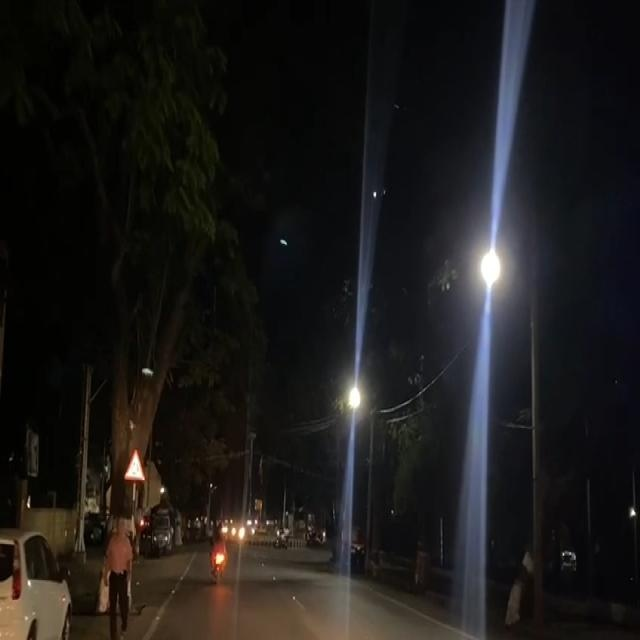bien_cam: (124, 446, 147, 484)
